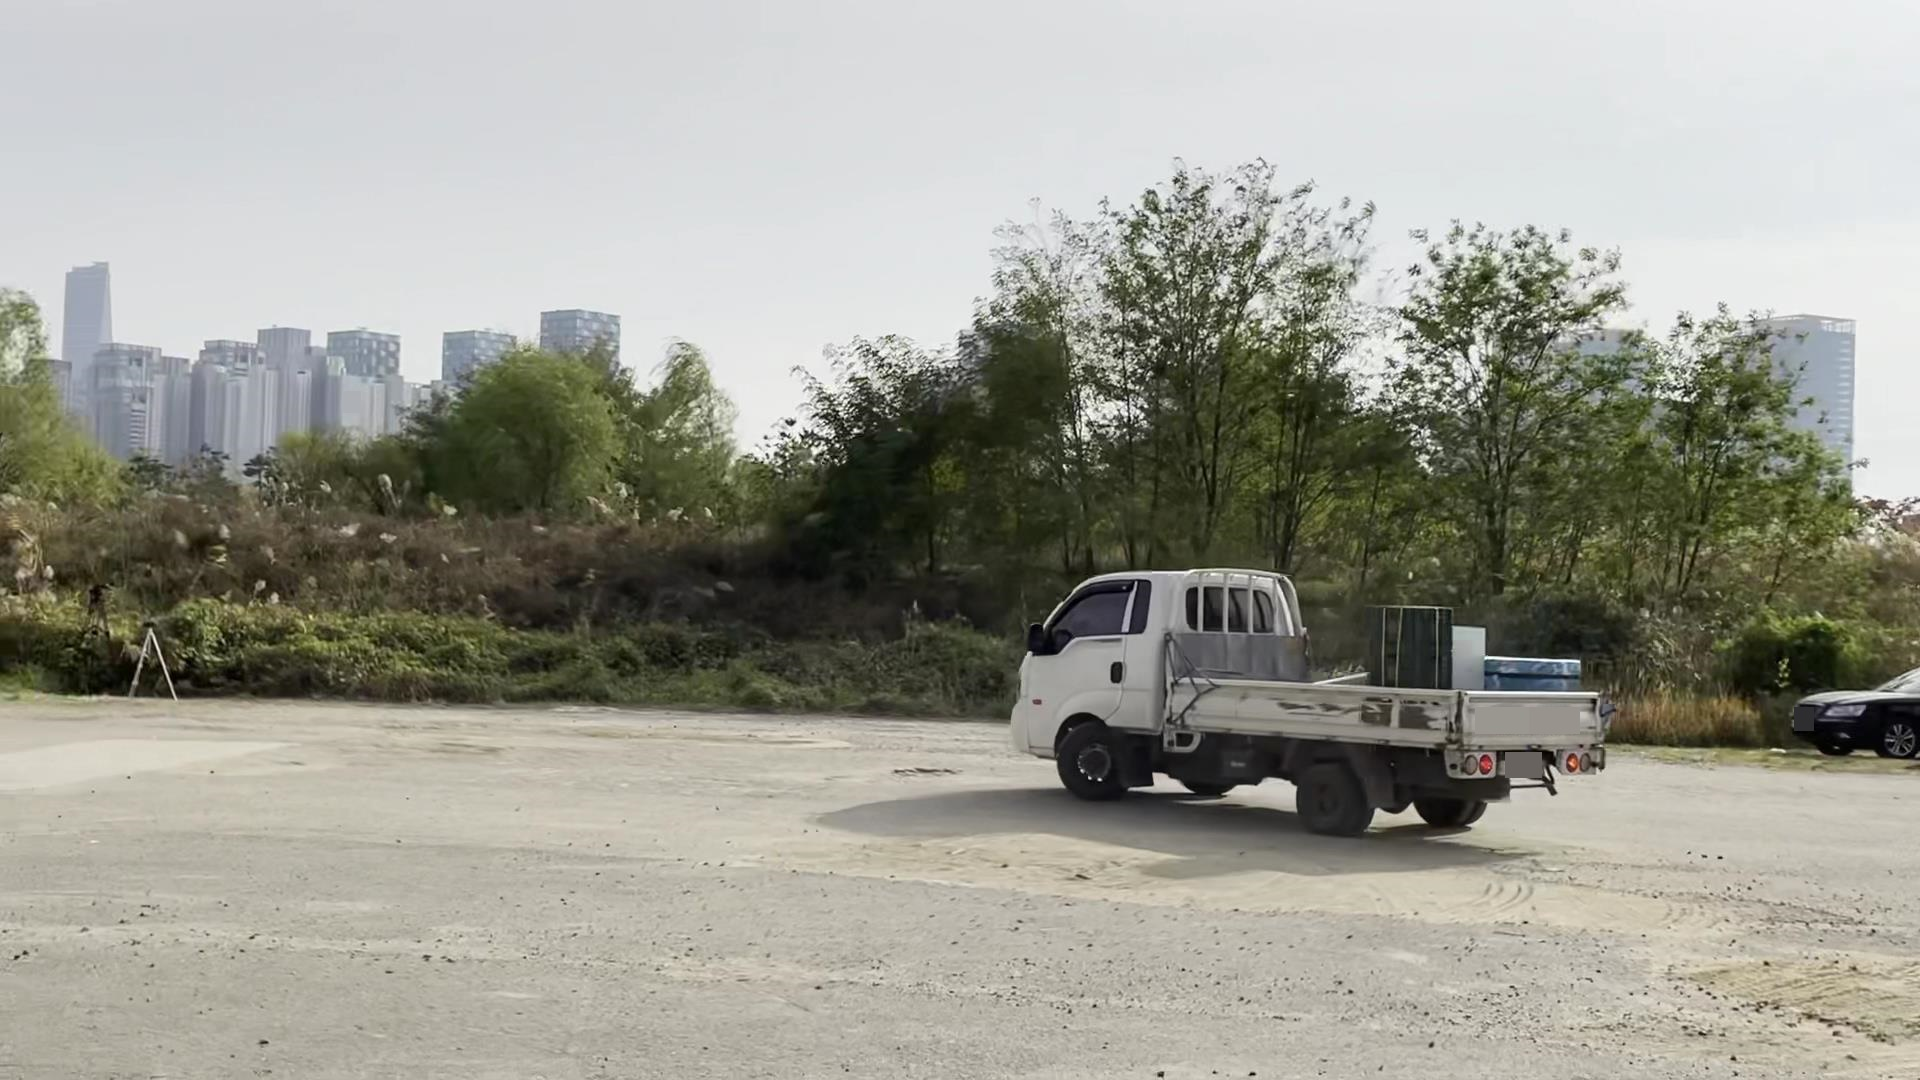불법차량: (1010, 567, 1619, 836)
